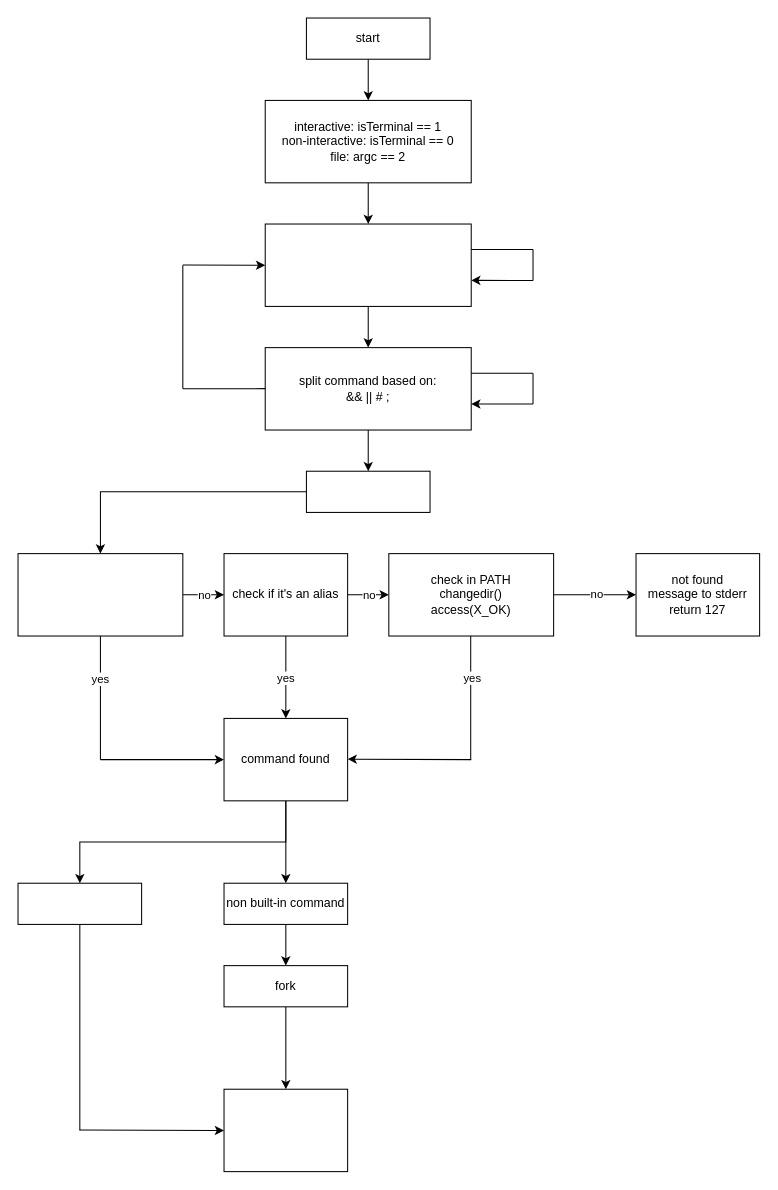
Image size: 778x1190. Some labels were removed from this diagram. Here are the shapes that lost their labels. From the top down, the centre of each, then its label:
At (x=367, y=264): "split given command to multiple ones using \n".
At (x=367, y=491): "check argv[0]".
At (x=100, y=594): "check if accessible using access(X_OK)".
At (x=79, y=903): "built-in command".
At (x=285, y=1130): "return 2 if command fail".
